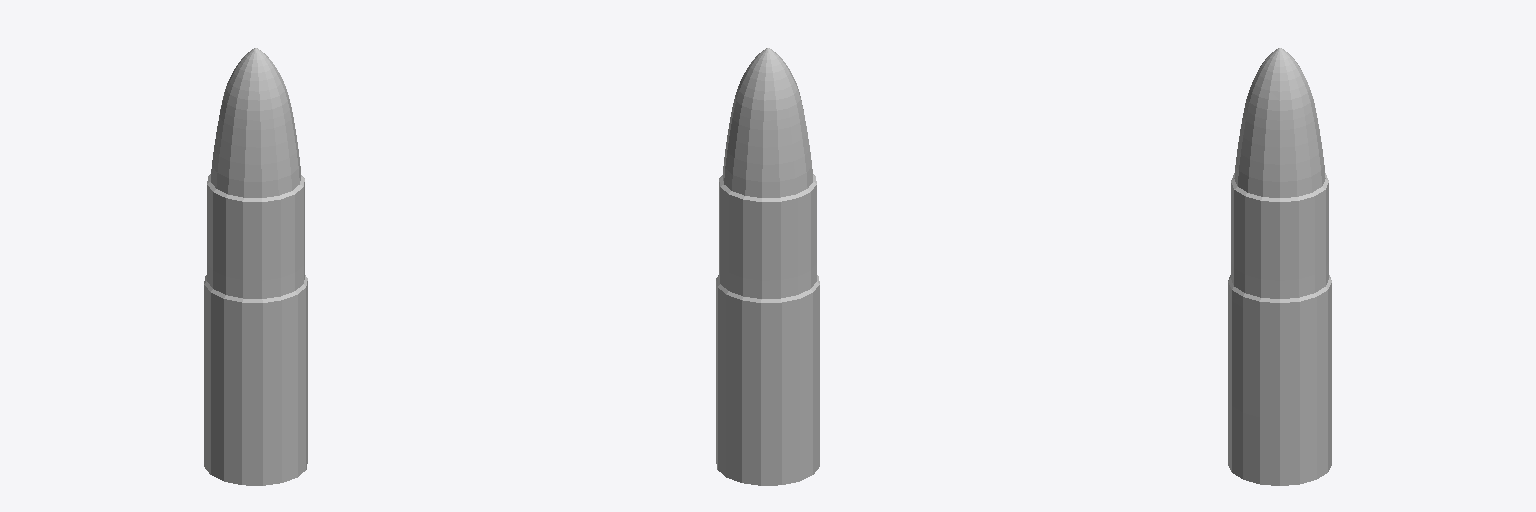
File: bulet3.obj
The picture shows the model from 3 angles: view 1: azimuth 30°, elevation 25°; view 2: azimuth 150°, elevation 25°; view 3: azimuth 270°, elevation 25°; orthographic projection.
Parts seen in each view (by area): view 1: Cube.003; view 2: Cube.003; view 3: Cube.003.
Part boxes in pixels (x1,y1,x2,y2): Cube.003: (204, 48, 307, 485); Cube.003: (716, 48, 819, 485); Cube.003: (1228, 48, 1331, 485).
Size of the model in its own units: 1.5 by 6.59 by 1.5.